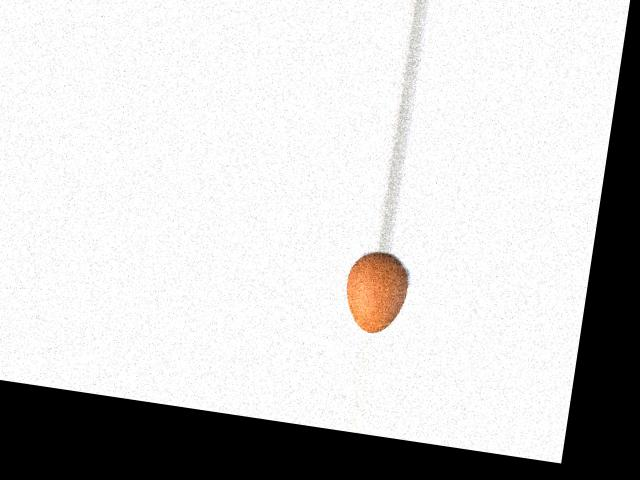egg: (340, 248, 412, 336)
